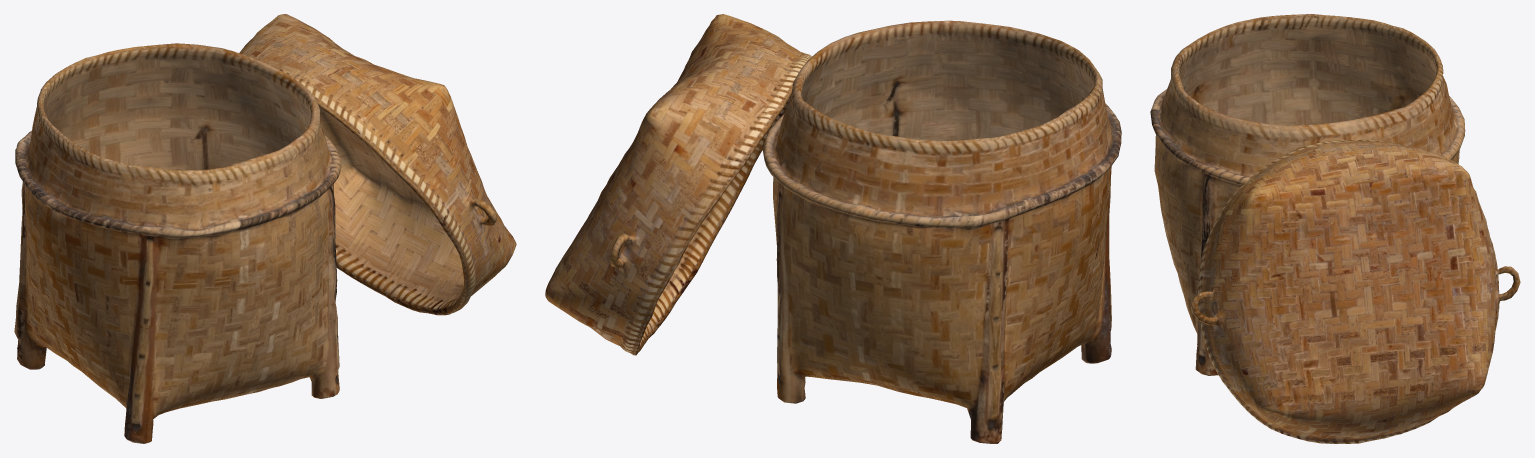
File: wicker_basket_02.glb
The picture shows the model from 3 angles, left to right: view 1: azimuth 30°, elevation 25°; view 2: azimuth 150°, elevation 25°; view 3: azimuth 270°, elevation 25°; orthographic projection. The views are drawn at different scales.
Parts seen in each view (by area): view 1: wicker_basket_02_base, wicker_basket_02_lid; view 2: wicker_basket_02_base, wicker_basket_02_lid; view 3: wicker_basket_02_lid, wicker_basket_02_base.
Boxes of the visible parts, x1,y1,x2,y2 form: wicker_basket_02_base: (14,43,341,443); wicker_basket_02_lid: (239,14,516,315); wicker_basket_02_base: (762,20,1121,443); wicker_basket_02_lid: (545,14,811,355); wicker_basket_02_lid: (1190,140,1520,443); wicker_basket_02_base: (1150,14,1465,375).
Bounding box in the file's own units: 0.3469 × 0.2005 × 0.2545.
1 material, 1 textured.
